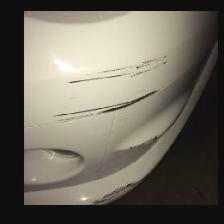bumper_scratch: (47, 53, 181, 130), (85, 177, 144, 205)
